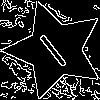I: (30, 24, 70, 70)
